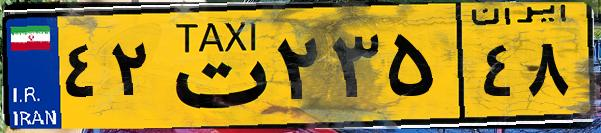2: (270, 28, 330, 110), (110, 28, 158, 98)
3: (330, 28, 385, 110)
4: (57, 26, 110, 100), (475, 38, 525, 113)
5: (385, 28, 445, 110)
8: (525, 38, 570, 115)
ت: (158, 12, 270, 120)
